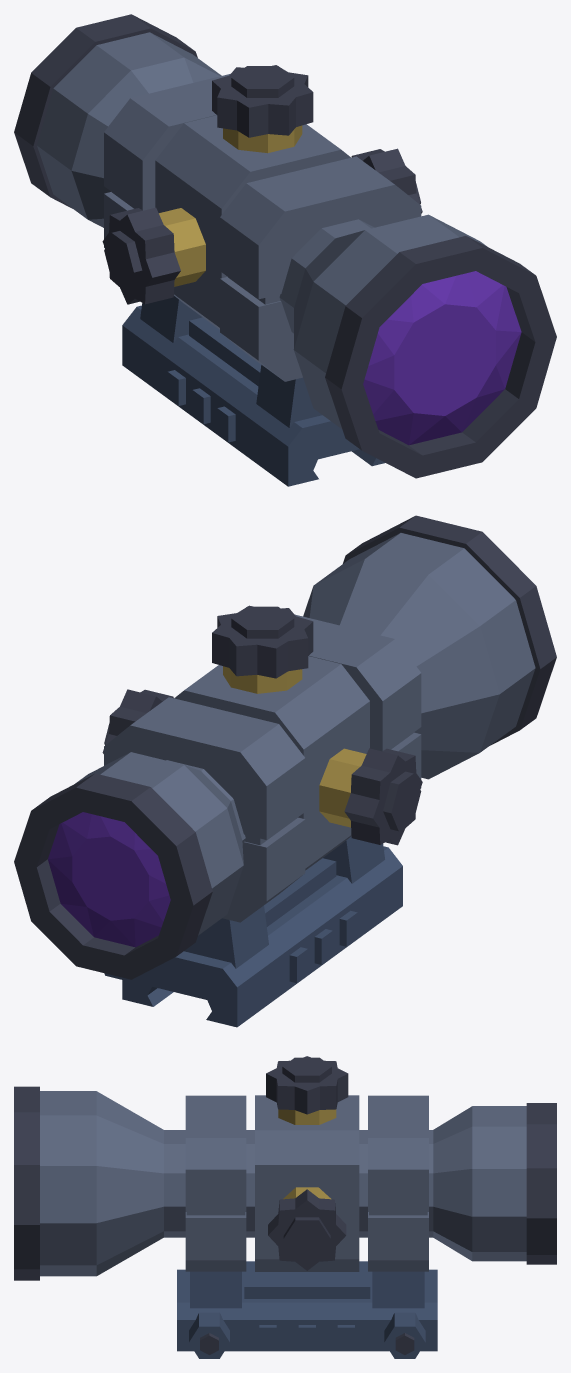
Rendered from weapon-scope-6b43b2.glb.
3 renders of one model, top to bottom at view 1: azimuth 30°, elevation 25°; view 2: azimuth 150°, elevation 25°; view 3: azimuth 270°, elevation 25°, orthographic. The views are drawn at different scales.
Parts seen in each view (by area): view 1: scope-metal, scope-crystal; view 2: scope-metal, scope-crystal; view 3: scope-metal.
Boxes of the visible parts, box(x1,y1,x2,y2) form: scope-metal: box(14, 14, 556, 486); scope-crystal: box(363, 271, 521, 445); scope-metal: box(14, 515, 556, 1027); scope-crystal: box(48, 812, 170, 947); scope-metal: box(14, 1056, 556, 1358).
Size of the model in its own units: 0.12 by 0.1335 by 0.25.
